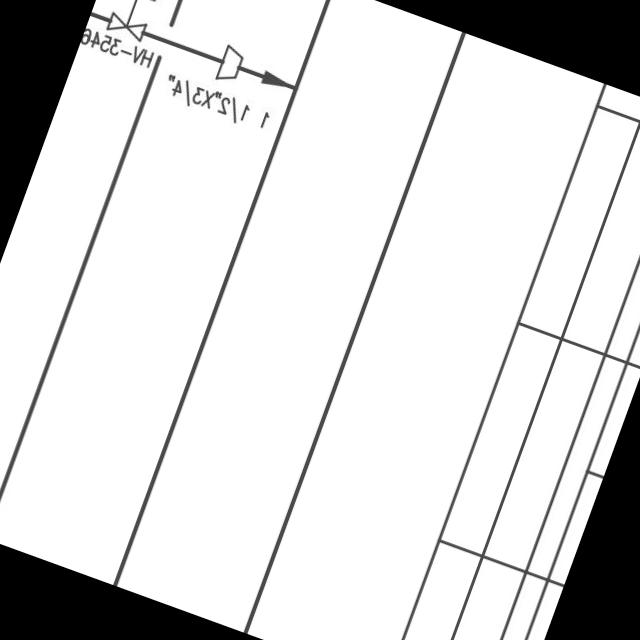HVWT: (102, 0, 164, 44)
SP: (207, 36, 251, 88)
